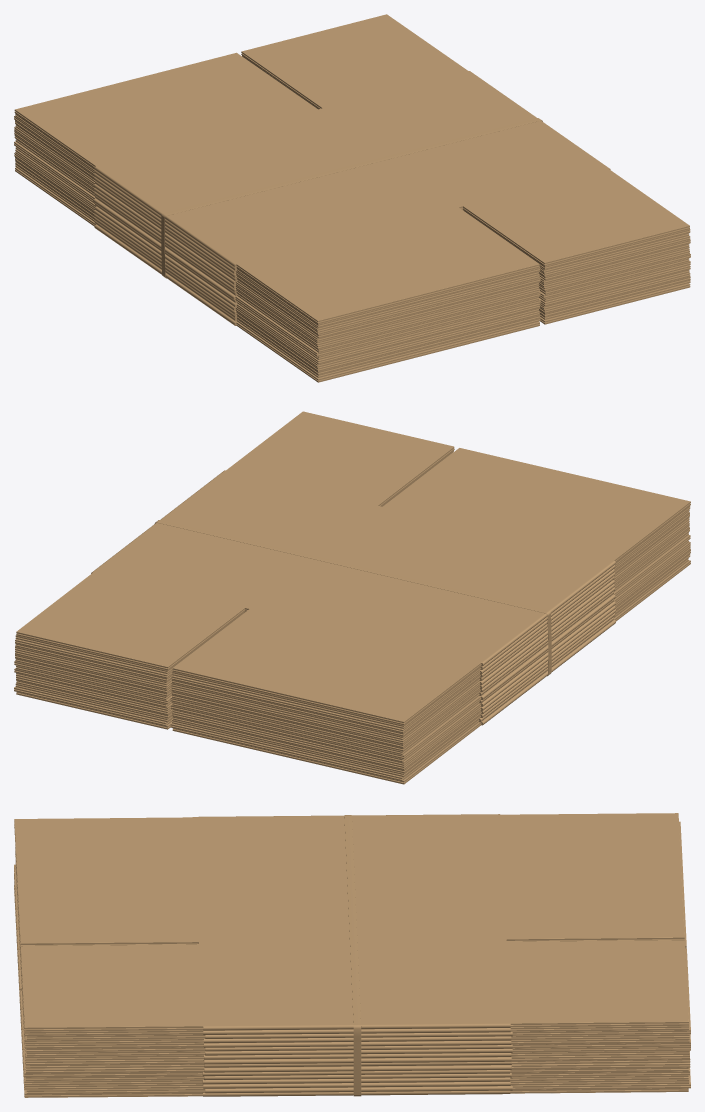
The model's file is box_cardboard_folded_brown_a04.glb.
3 views of the same model, one above another, from view 1: azimuth 30°, elevation 25°; view 2: azimuth 150°, elevation 25°; view 3: azimuth 270°, elevation 25° (orthographic). The views are drawn at different scales.
Size of the model in its own units: 0.677 by 0.1039 by 0.8985.
